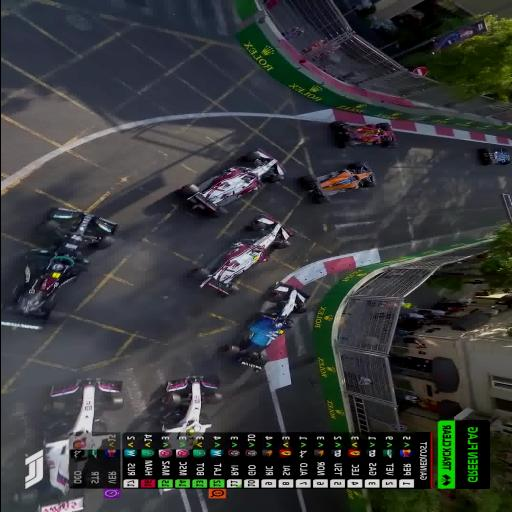f1_car: (11, 379, 122, 512), (1, 208, 118, 330), (188, 215, 292, 297), (221, 282, 308, 371), (177, 150, 283, 217), (160, 376, 222, 448), (160, 376, 222, 441), (300, 163, 375, 204), (330, 121, 397, 149), (480, 149, 511, 165), (159, 489, 171, 494)
